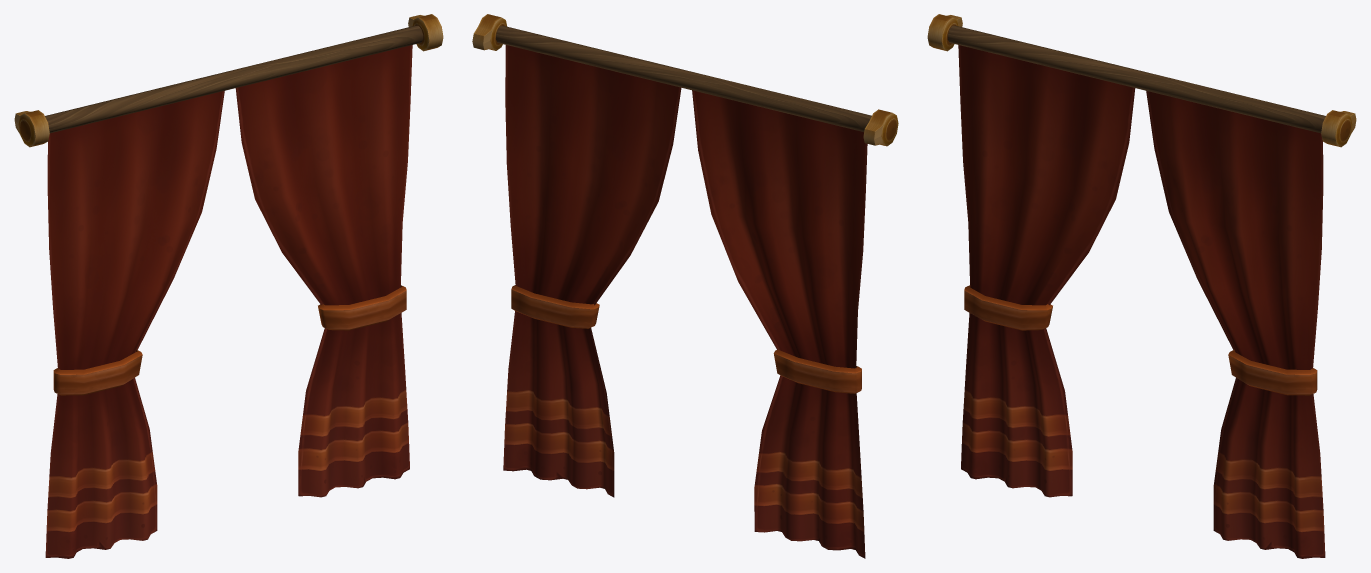
Rendered from Blinds.FBX.
3 views of the same model, side by side, from view 1: azimuth 30°, elevation 25°; view 2: azimuth 150°, elevation 25°; view 3: azimuth 330°, elevation 25° (orthographic).
Visible parts, largest first — view 1: Blinds; view 2: Blinds; view 3: Blinds.
Boxes of the visible parts, box(x1,y1,x2,y2) form: Blinds: box(14, 14, 443, 558); Blinds: box(472, 14, 898, 558); Blinds: box(927, 14, 1356, 558).
Bounding box in the file's own units: 1652 × 1729 × 160.
